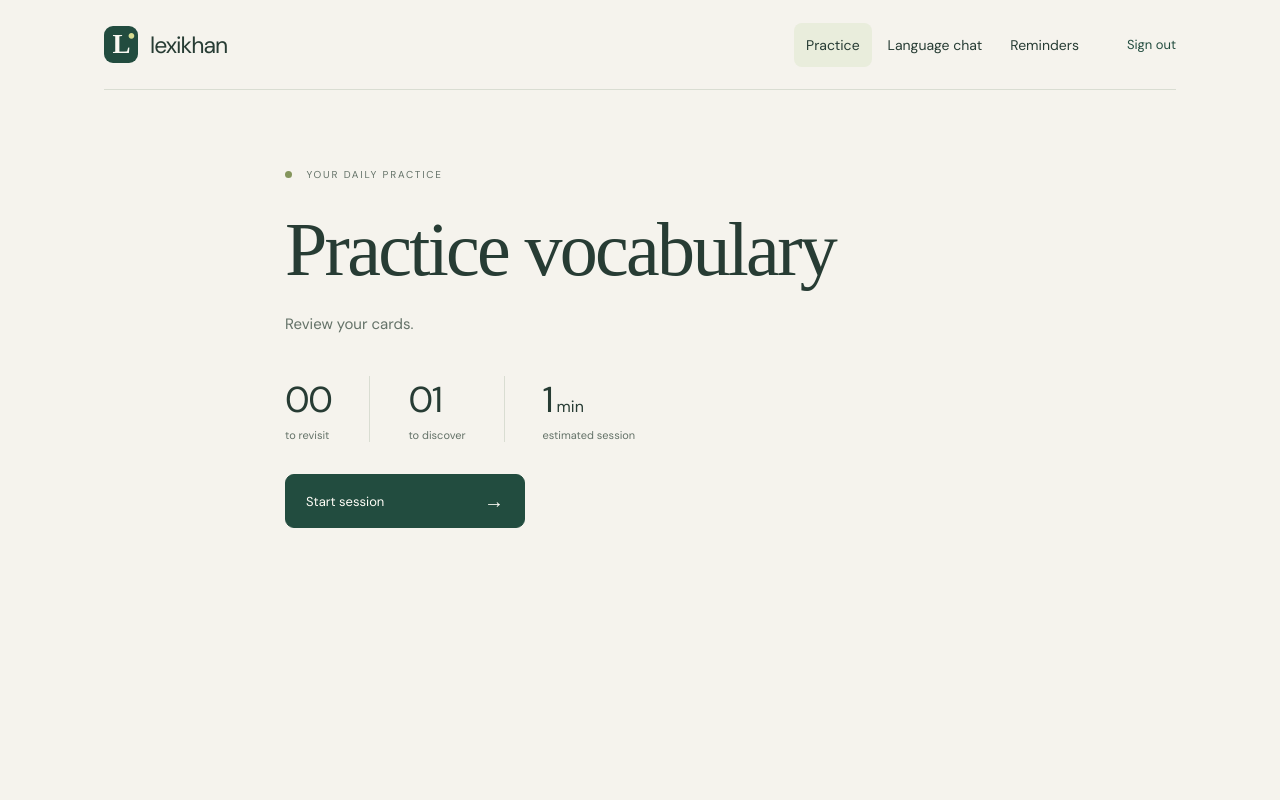
Test: daily practice › refreshes a stale version without losing the learner answer
The width and height of the screenshot is (1280, 800).
Click the button "Start session →".
click(405, 501)  # box [285, 474, 525, 528]
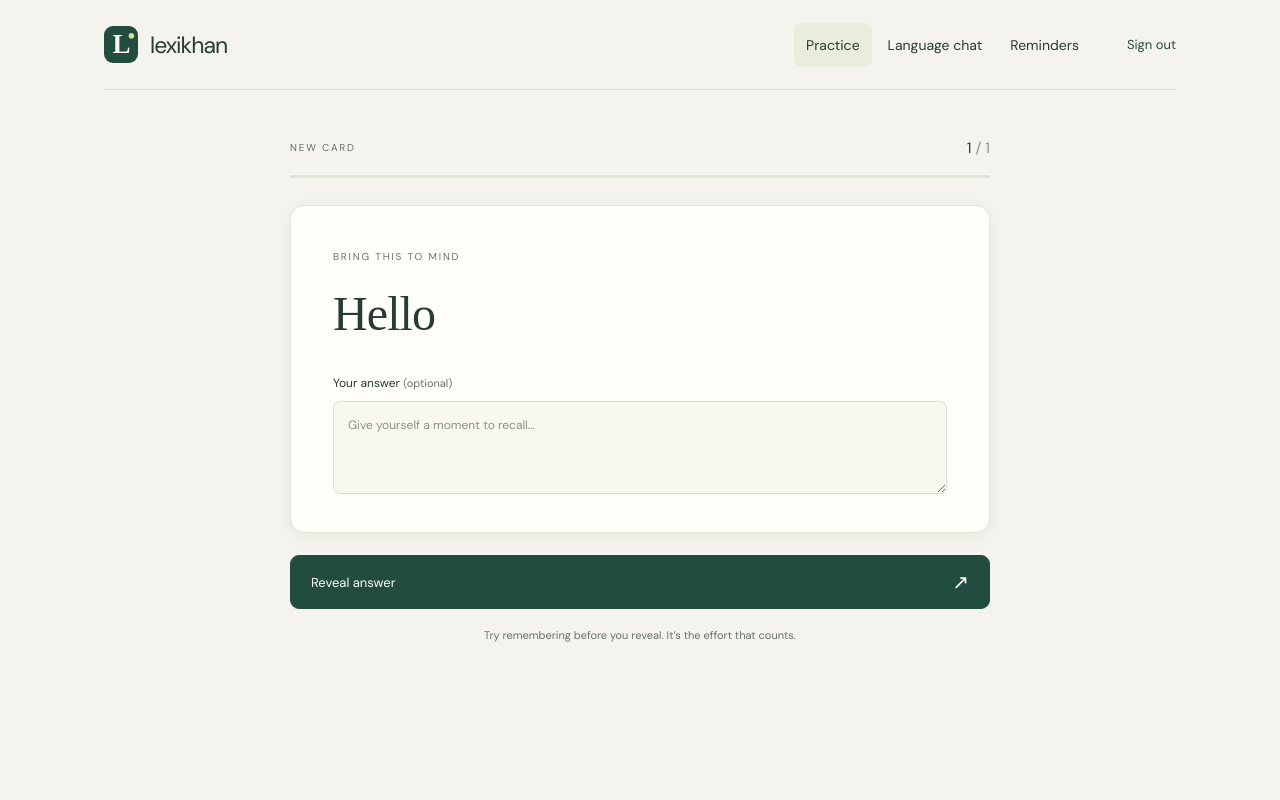
Type "Bon jour" into the text box labelled "Your answer (optional)".
click(640, 448); type("Bon jour")  # box [333, 401, 947, 494]
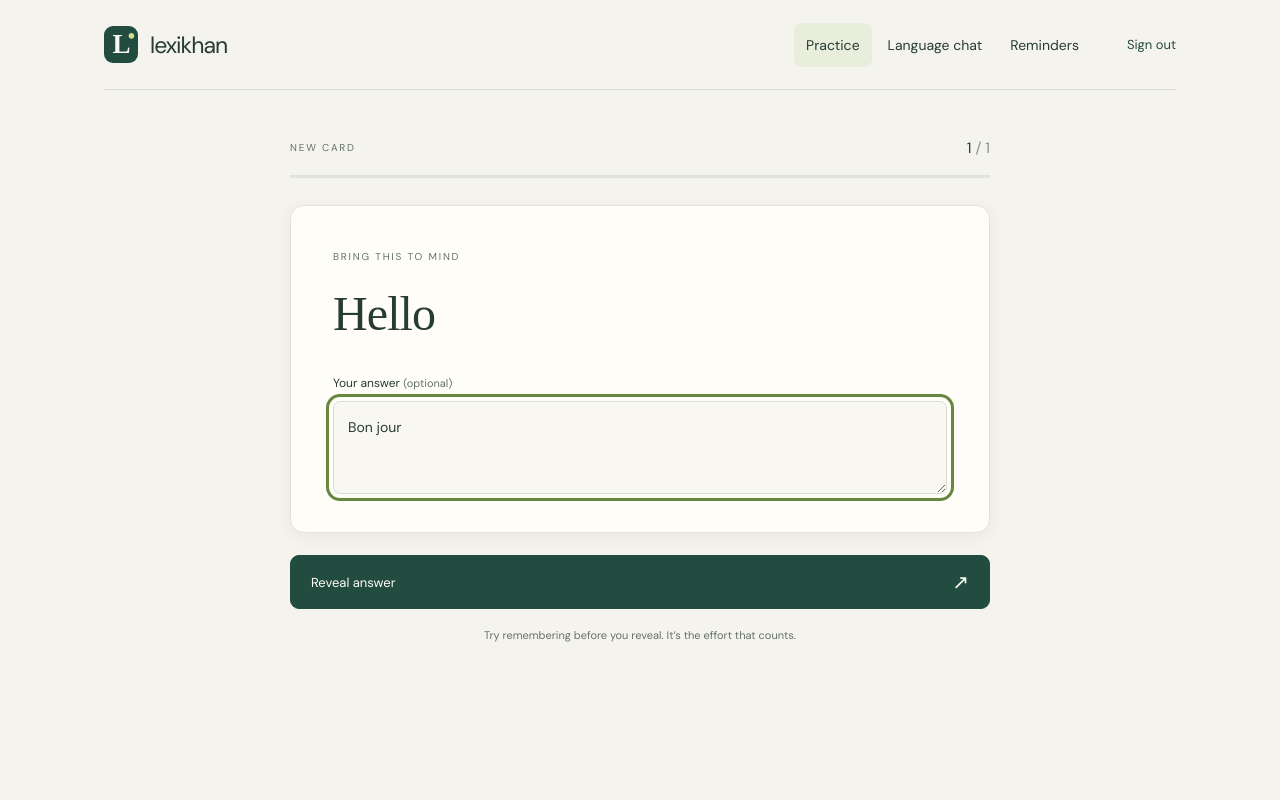
Expected: the text "Bonjour" is not shown
Click the button "Reveal answer ↗".
click(353, 582)  # box [290, 555, 990, 609]
(page scrolled)
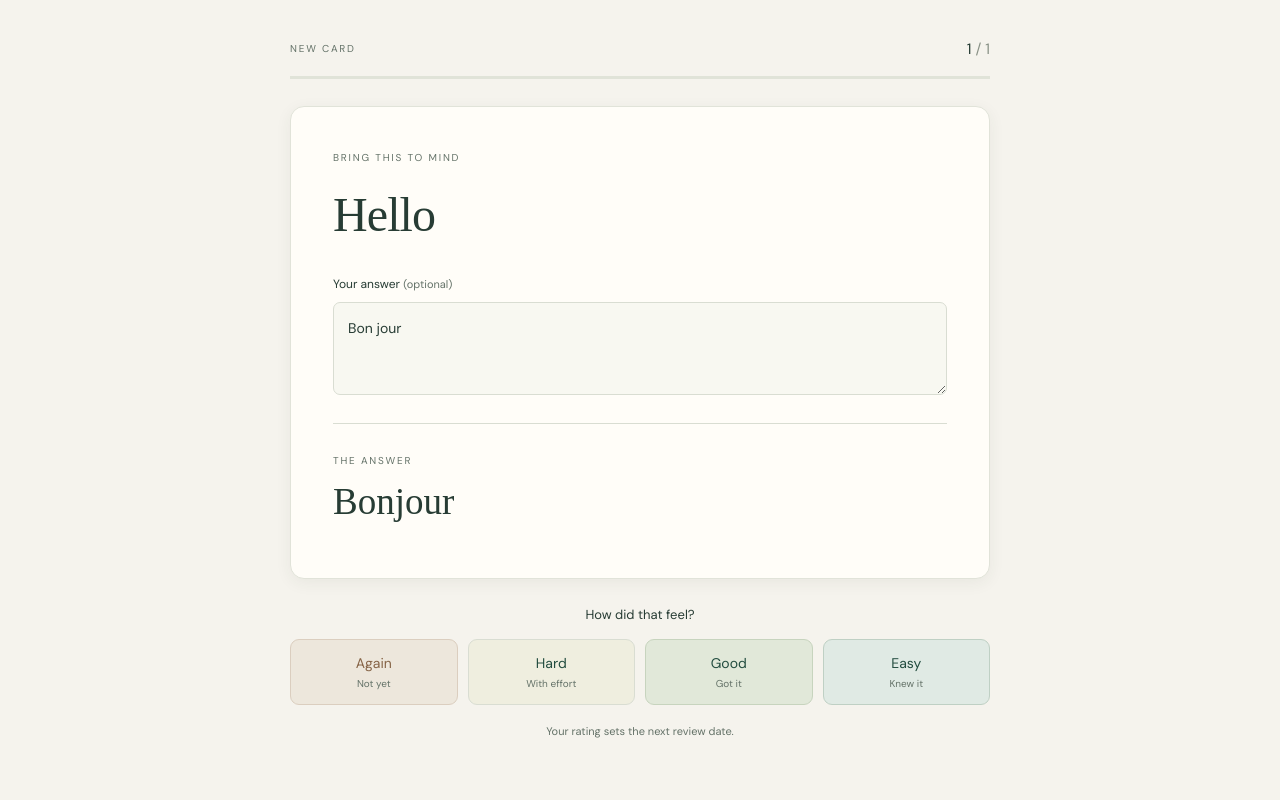
Result: the heading "Bonjour" is shown at [333, 481, 454, 522]
Click the button "Hard With effort".
click(551, 672)  # box [468, 639, 635, 705]
(page scrolled)
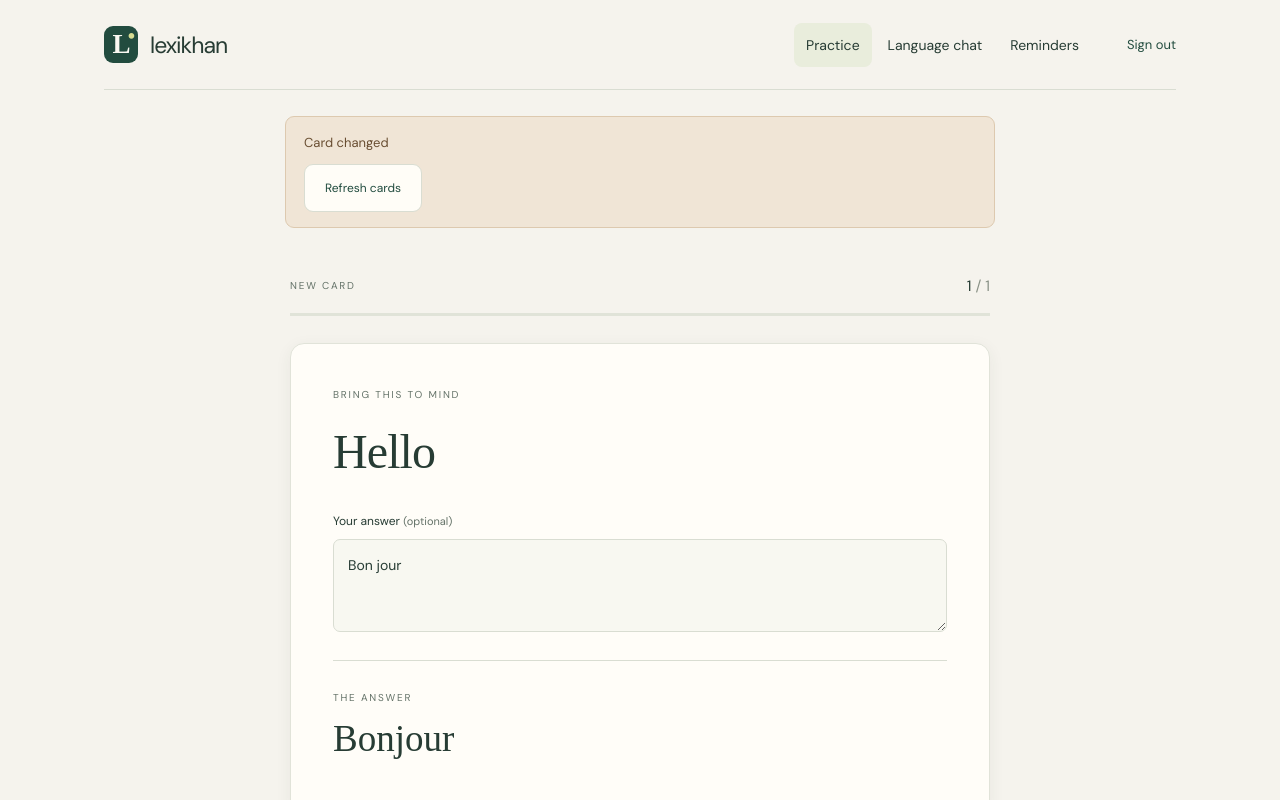
Click the button "Refresh cards".
click(363, 188)  # box [304, 164, 422, 212]
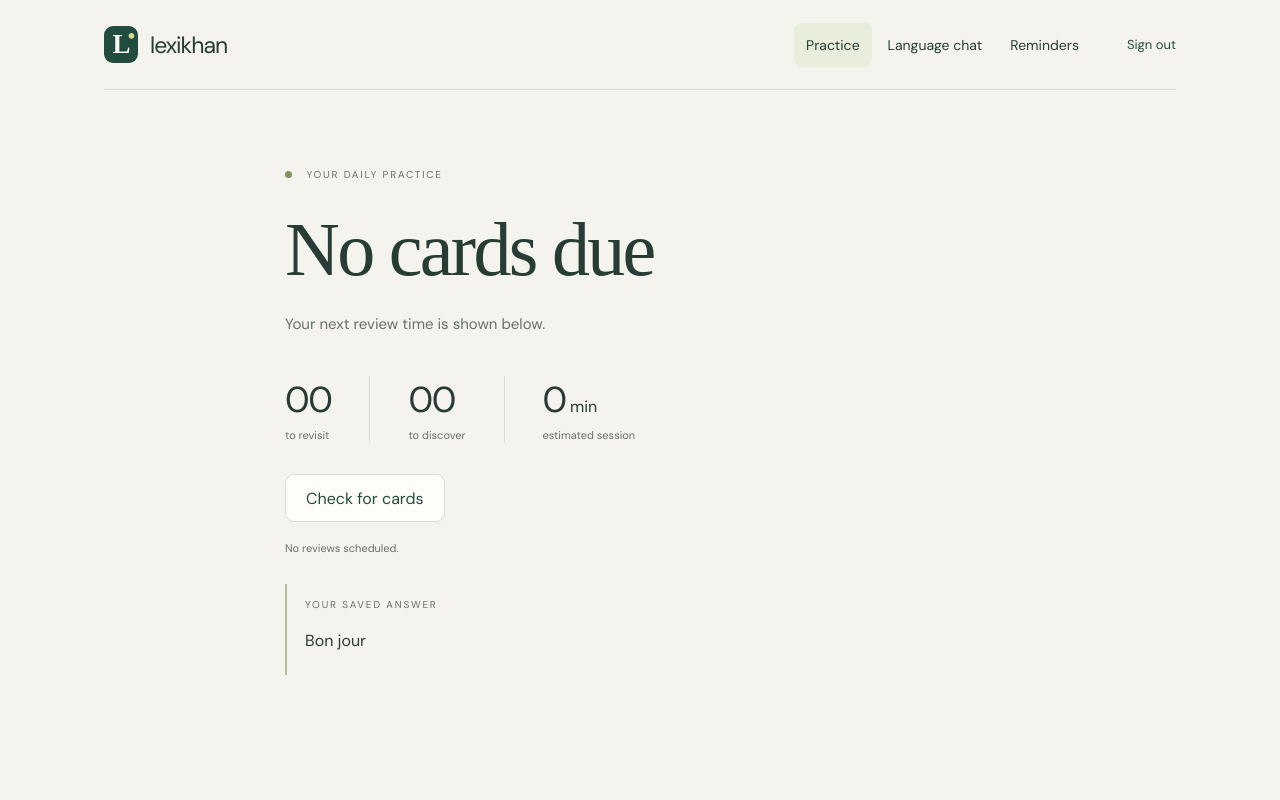
Result: the text "YOUR SAVED ANSWER" is shown at [305, 598, 438, 611]
Result: the text "Bon jour" is shown at [305, 630, 366, 651]
